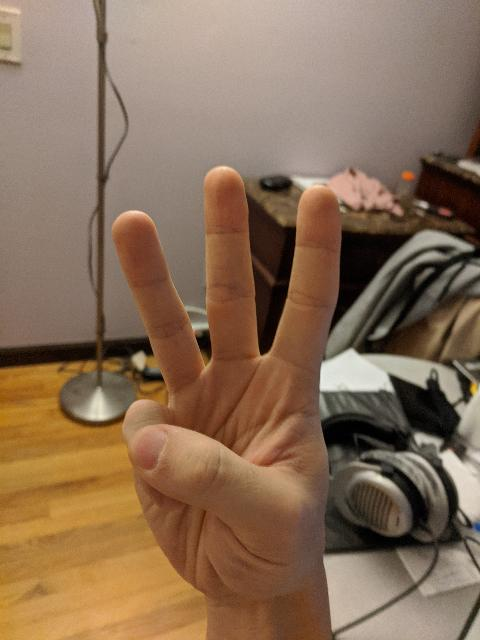W: (107, 162, 346, 604)
